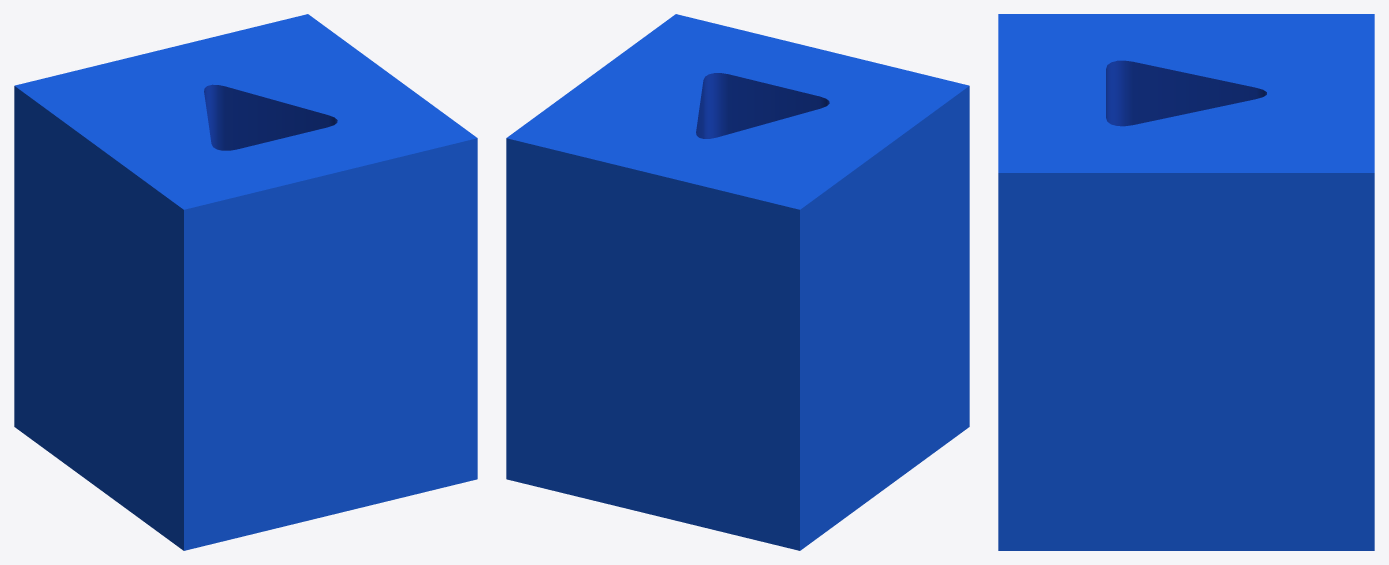
File: cubeTriangle.fbx
3 views of the same model, side by side, from view 1: azimuth 30°, elevation 25°; view 2: azimuth 150°, elevation 25°; view 3: azimuth 270°, elevation 25° (orthographic). The views are drawn at different scales.
Visible parts, largest first — view 1: CubeTriangle; view 2: CubeTriangle; view 3: CubeTriangle.
Boxes of the visible parts, <box> form: CubeTriangle: <box>14,14,477,550</box>; CubeTriangle: <box>506,14,969,550</box>; CubeTriangle: <box>998,14,1374,550</box>.
Bounding box in the file's own units: 425 × 471 × 425.
